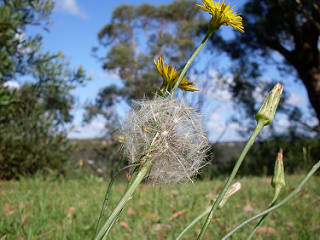dandelion white: (117, 93, 215, 187)
dandelion yellow: (152, 56, 199, 99), (193, 1, 246, 39)
